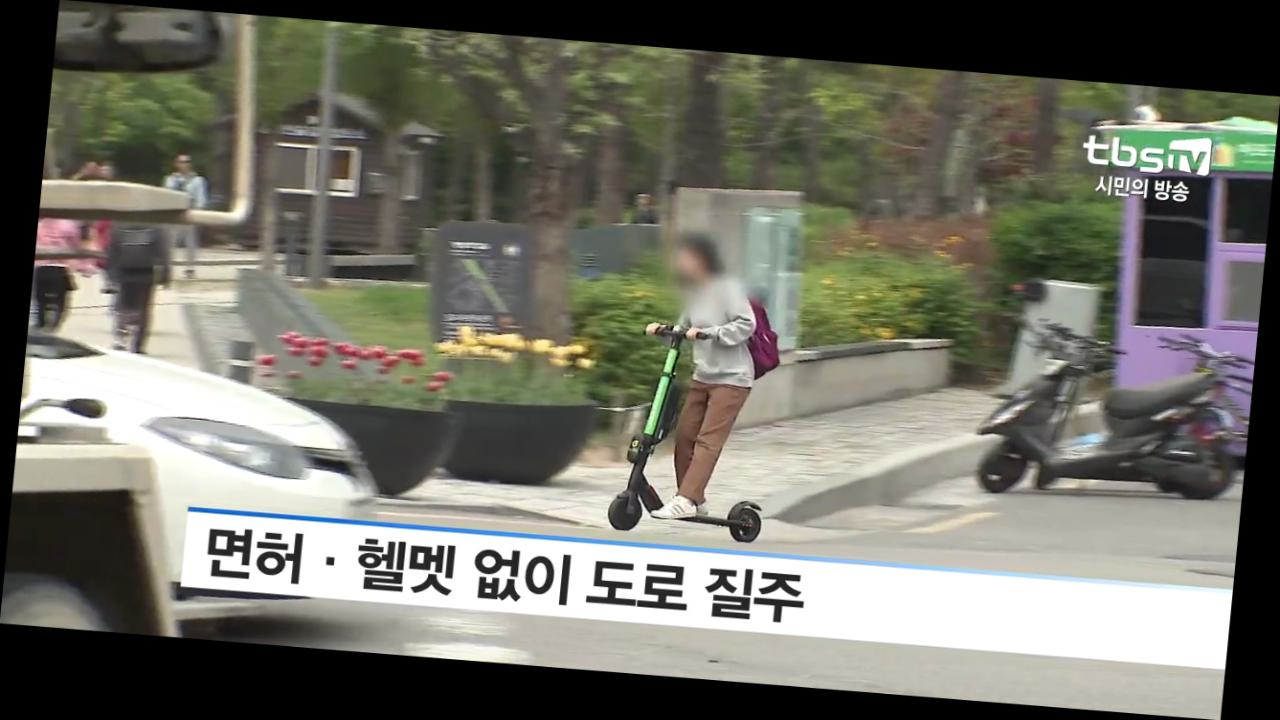nonhelmet: (603, 221, 798, 547)
